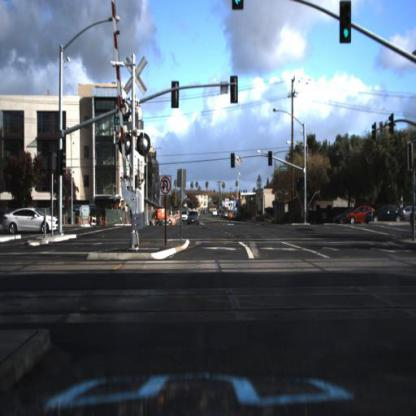car: (2, 207, 62, 235), (370, 206, 407, 223), (348, 206, 376, 226), (335, 206, 354, 226), (210, 205, 222, 221), (180, 205, 189, 225), (188, 210, 199, 224)
pedestrian: (409, 208, 416, 235)
trafficLight: (338, 1, 355, 48)
trafficLight-Green: (341, 4, 352, 43)
trafficLight-Red: (301, 168, 309, 191), (267, 148, 275, 169), (231, 149, 236, 170)
